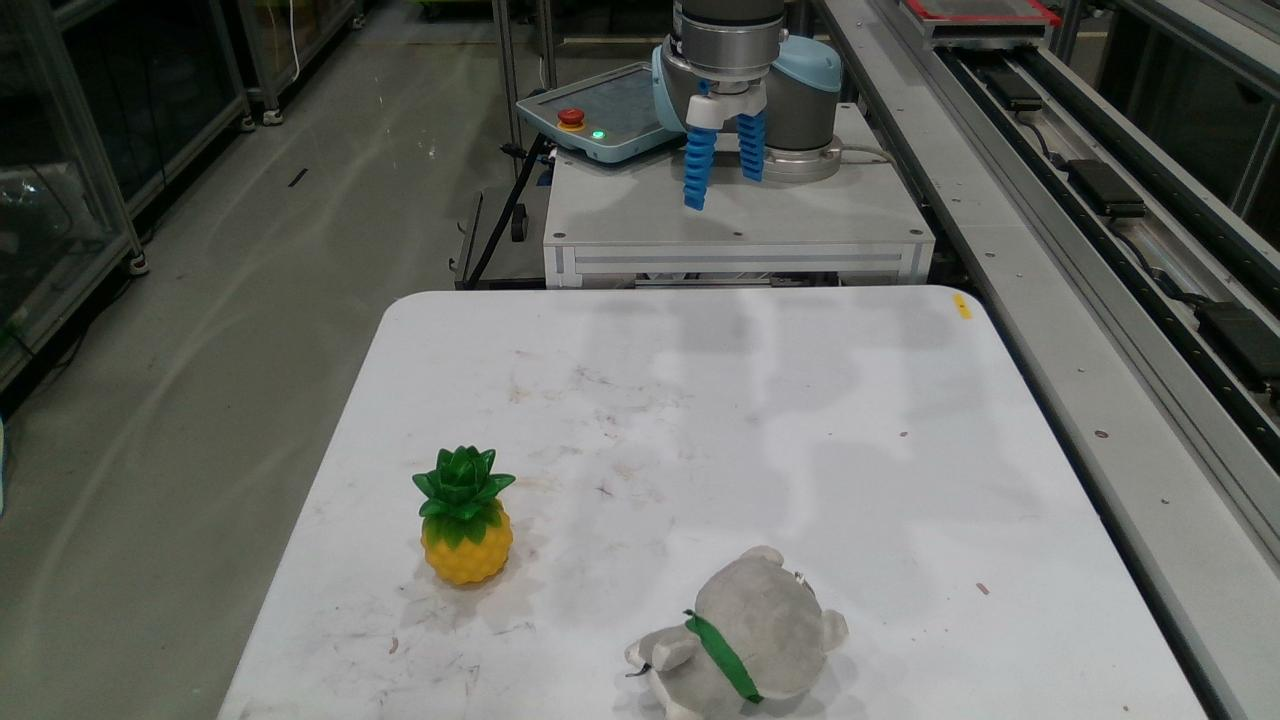UR5: (652, 0, 842, 182)
gripper_left: (682, 126, 720, 211)
gripper_right: (736, 110, 766, 182)
target: (622, 546, 849, 719), (412, 445, 516, 586)
